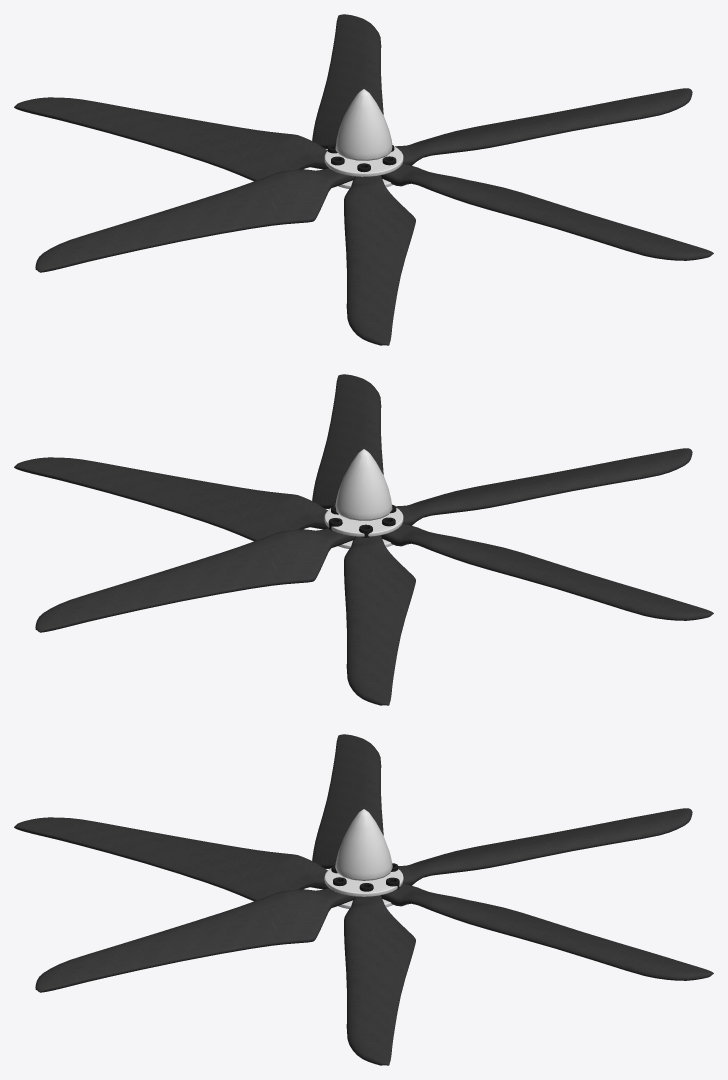
Rendered from rLB.glb.
3 renders of one model, top to bottom at view 1: azimuth 30°, elevation 25°; view 2: azimuth 150°, elevation 25°; view 3: azimuth 270°, elevation 25°, orthographic.
Visible parts, largest first — view 1: Rotor_CW_02; view 2: Rotor_CW_02; view 3: Rotor_CW_02.
Boxes of the visible parts, <box> form: Rotor_CW_02: <box>14,14,713,345</box>; Rotor_CW_02: <box>14,374,713,705</box>; Rotor_CW_02: <box>14,734,713,1065</box>.
Size of the model in its own units: 0.0866 by 0.0122 by 0.0777.
3 materials, 1 textured.
